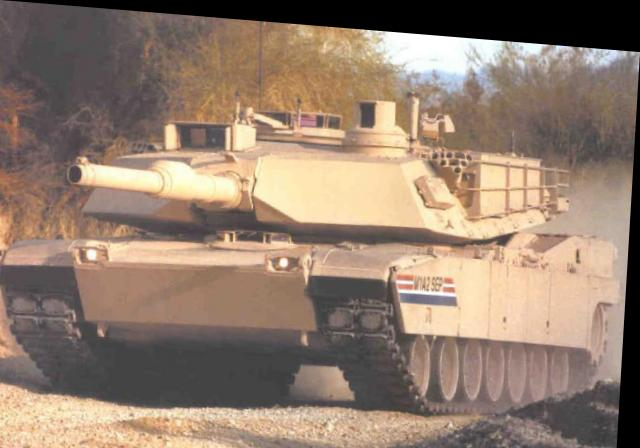tank: (0, 87, 621, 405)
